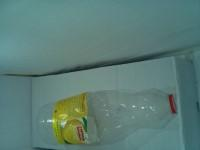bottle: (19, 0, 196, 45)
